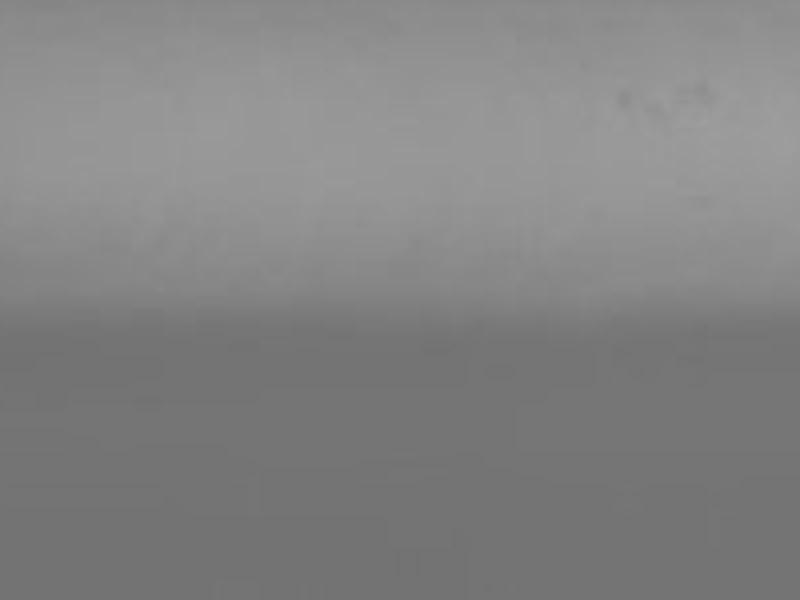defect: (689, 77, 713, 109), (612, 82, 633, 107), (644, 99, 670, 118)
